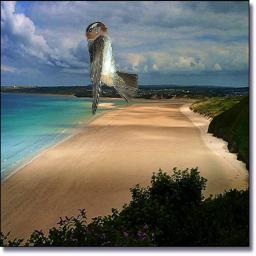Swallow: (85, 21, 138, 117)
